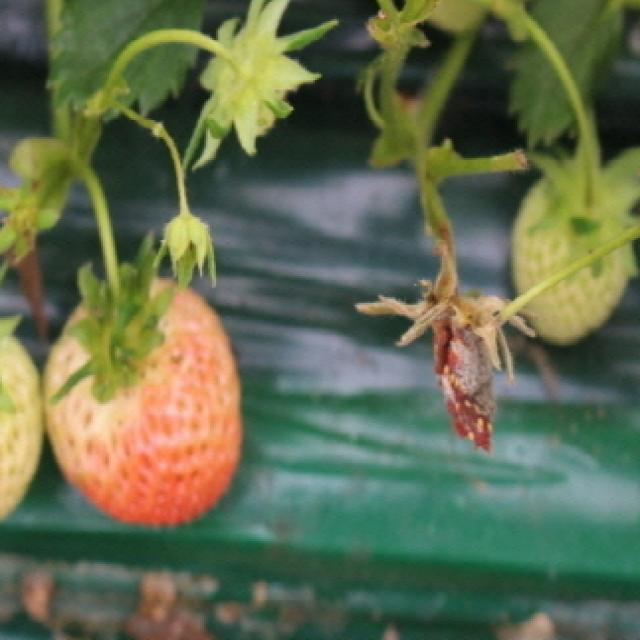Gray Mold: (358, 269, 534, 456)
